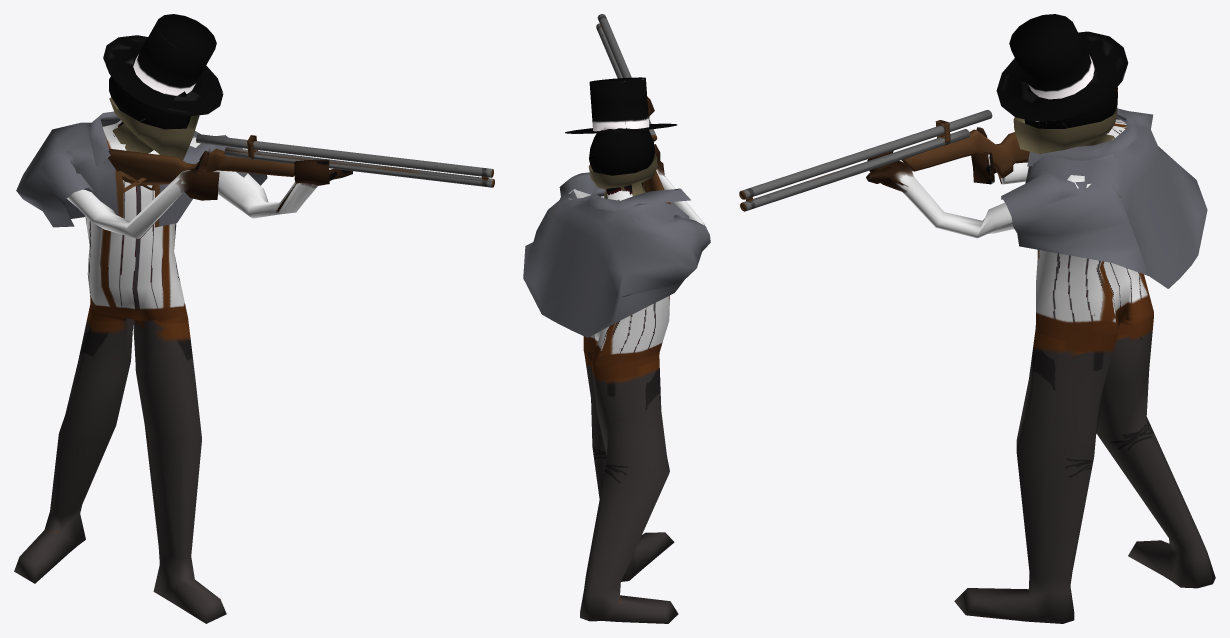
File: Nod_3.obj
3 renders of one model, left to right at view 1: azimuth 30°, elevation 25°; view 2: azimuth 150°, elevation 25°; view 3: azimuth 270°, elevation 25°, orthographic. The views are drawn at different scales.
Visible parts, largest first — view 1: Body_Cube.007, Cloak_Cube.006, Rifle_Cube_Cube_Wood, Hat_Cylinder.001, Scarf_Cube.008; view 2: Body_Cube.007, Cloak_Cube.006, Hat_Cylinder.001, Rifle_Cube_Cube_Wood, Scarf_Cube.008; view 3: Body_Cube.007, Cloak_Cube.006, Hat_Cylinder.001, Rifle_Cube_Cube_Wood, Scarf_Cube.008.
Boxes of the visible parts, x1,y1,x2,y2 form: Body_Cube.007: [14, 57, 352, 623]; Cloak_Cube.006: [16, 111, 267, 228]; Rifle_Cube_Cube_Wood: [108, 134, 494, 187]; Hat_Cylinder.001: [103, 14, 223, 116]; Scarf_Cube.008: [109, 97, 199, 159]; Body_Cube.007: [568, 97, 704, 623]; Cloak_Cube.006: [523, 172, 710, 337]; Hat_Cylinder.001: [565, 77, 677, 133]; Rifle_Cube_Cube_Wood: [596, 14, 670, 204]; Scarf_Cube.008: [588, 153, 657, 198]; Body_Cube.007: [866, 58, 1215, 623]; Cloak_Cube.006: [1001, 108, 1207, 288]; Hat_Cylinder.001: [996, 14, 1128, 121]; Rifle_Cube_Cube_Wood: [739, 110, 1029, 211]; Scarf_Cube.008: [1013, 106, 1117, 153].
Bounding box in the file's own units: 3.11 × 5.72 × 4.15.
